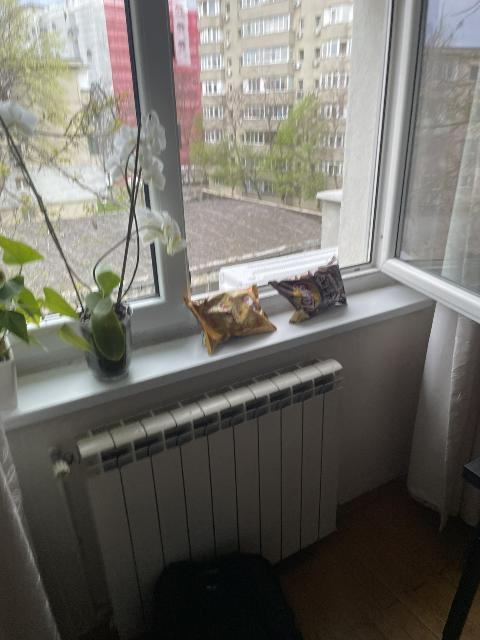Chio Hula Hoops Cheese 70g: (185, 284, 277, 354)
Lays Beef Grilled Ribs 125g: (267, 257, 346, 323)
